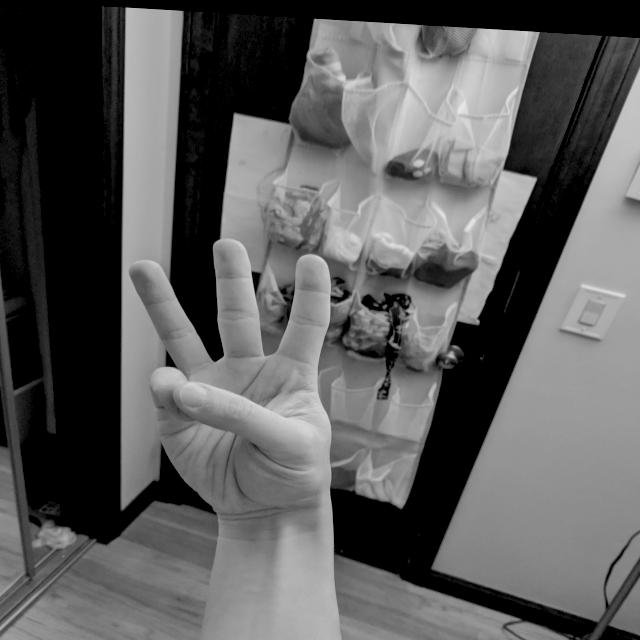W: (125, 226, 343, 518)
